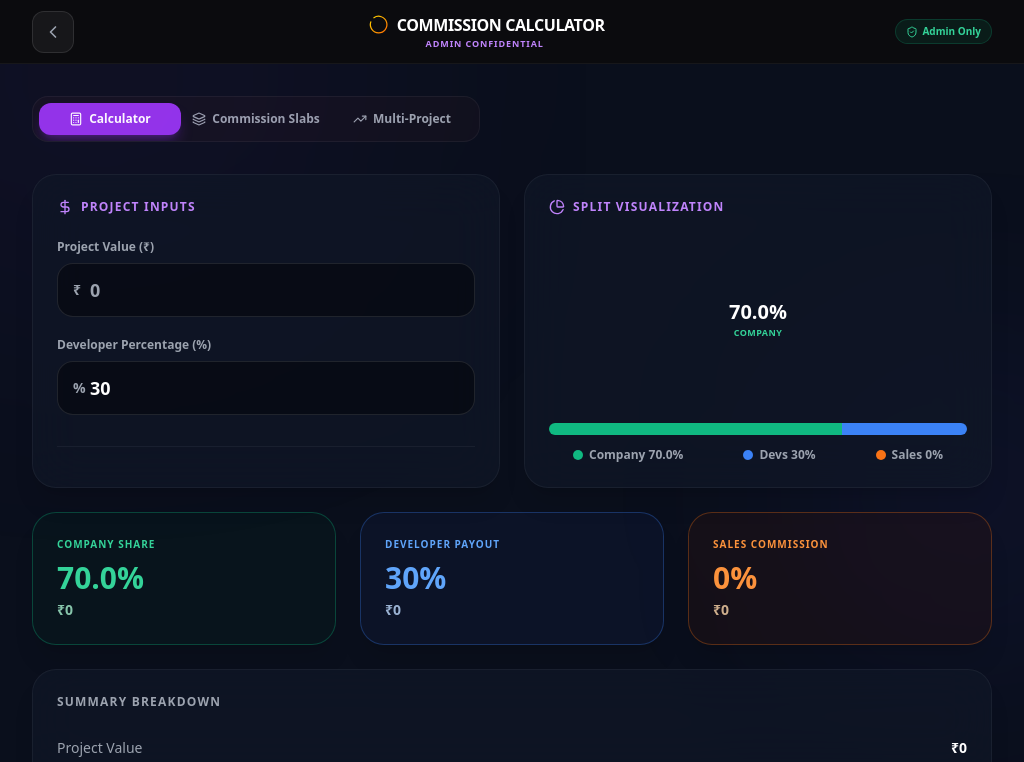
Test: CommissionCalculatorPage › calculates payouts correctly when project value is entered
Type "60000" into the number field with placeholder "0" at (266, 290), box [57, 263, 475, 317]
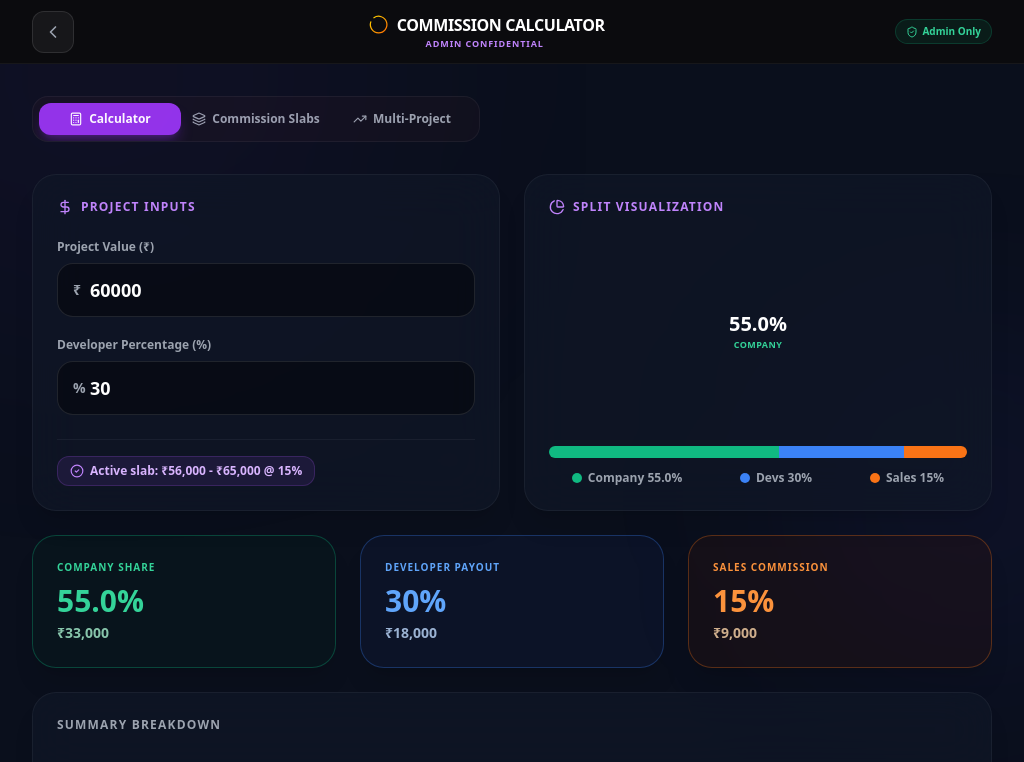
Now the text "Active slab: ₹56,000 - ₹65,000 @ 15%" is shown, box [57, 456, 315, 486]
Now the text "₹18,000" is shown, box [385, 623, 437, 642]
Now the text "₹9,000" is shown, box [713, 623, 757, 642]
